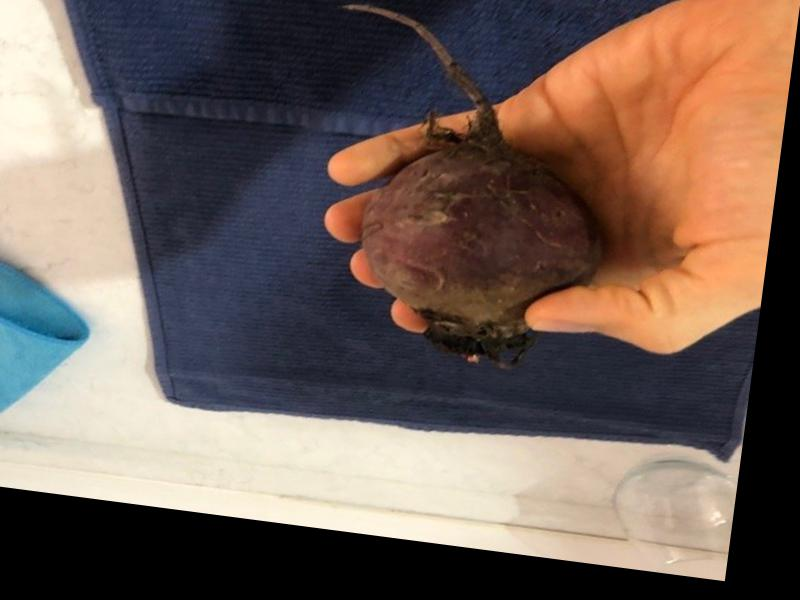Beet: (294, 0, 632, 377)
